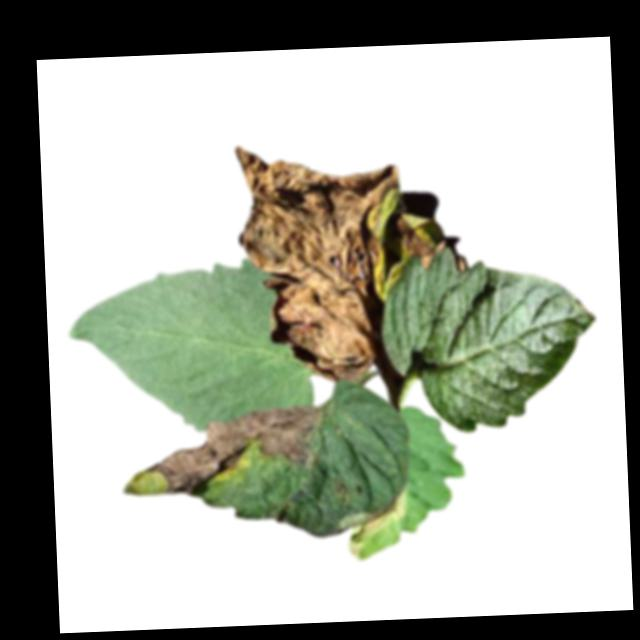Late_blight: (234, 137, 408, 386), (144, 403, 324, 499), (337, 492, 407, 561), (393, 214, 440, 271)
